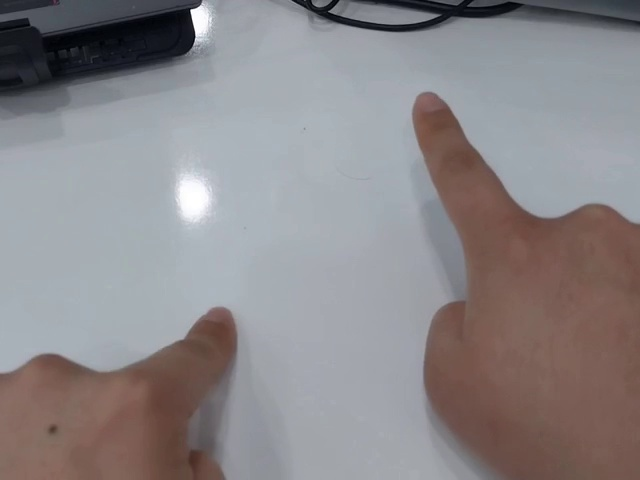fingers: (185, 305, 237, 372), (411, 90, 462, 138)
